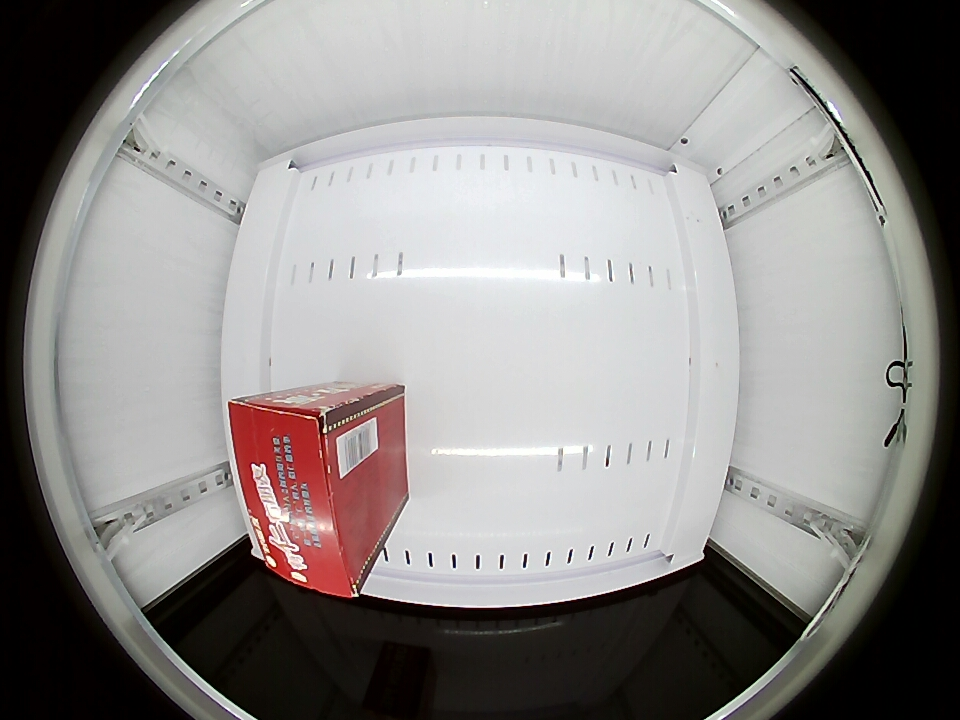haoliyou: (227, 389, 385, 596)
